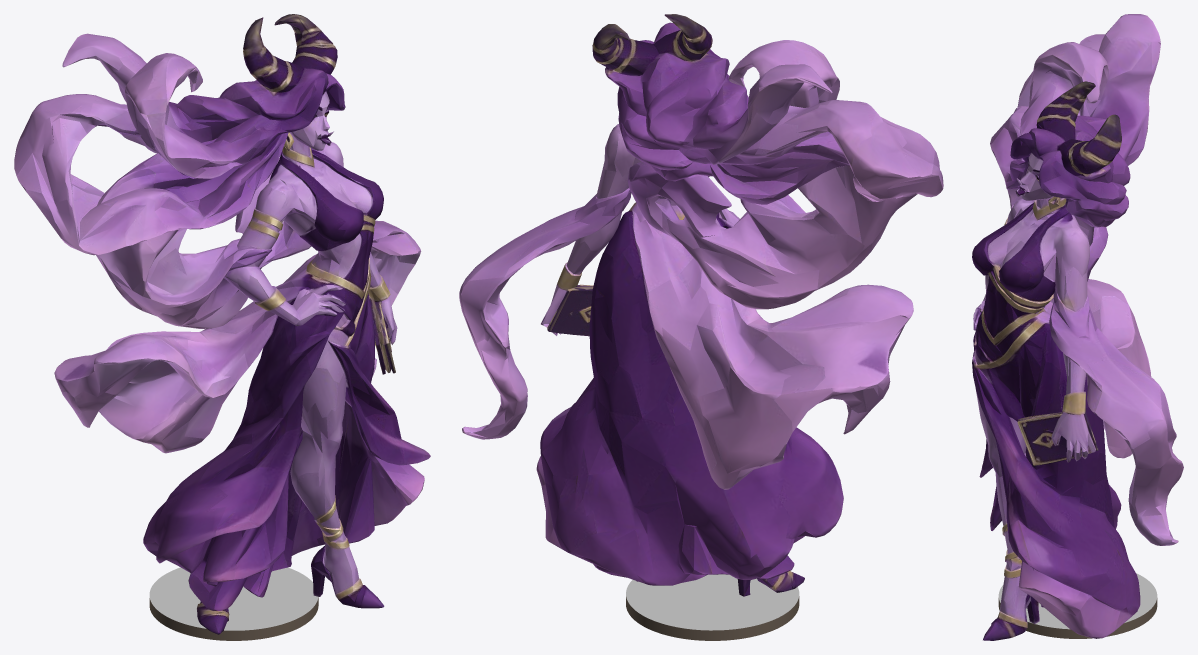
File: pc_prim.glb
3 renders of one model, left to right at view 1: azimuth 30°, elevation 25°; view 2: azimuth 150°, elevation 25°; view 3: azimuth 270°, elevation 25°, orthographic. The views are drawn at different scales.
Parts seen in each view (by area): view 1: Prim; view 2: Prim; view 3: Prim.
Part boxes in pixels (<box>): Prim: <box>14,14,430,640</box>; Prim: <box>459,14,943,640</box>; Prim: <box>972,14,1183,640</box>.
Size of the model in its own units: 1.32 by 1.71 by 0.6104.
3 materials, 1 textured.
